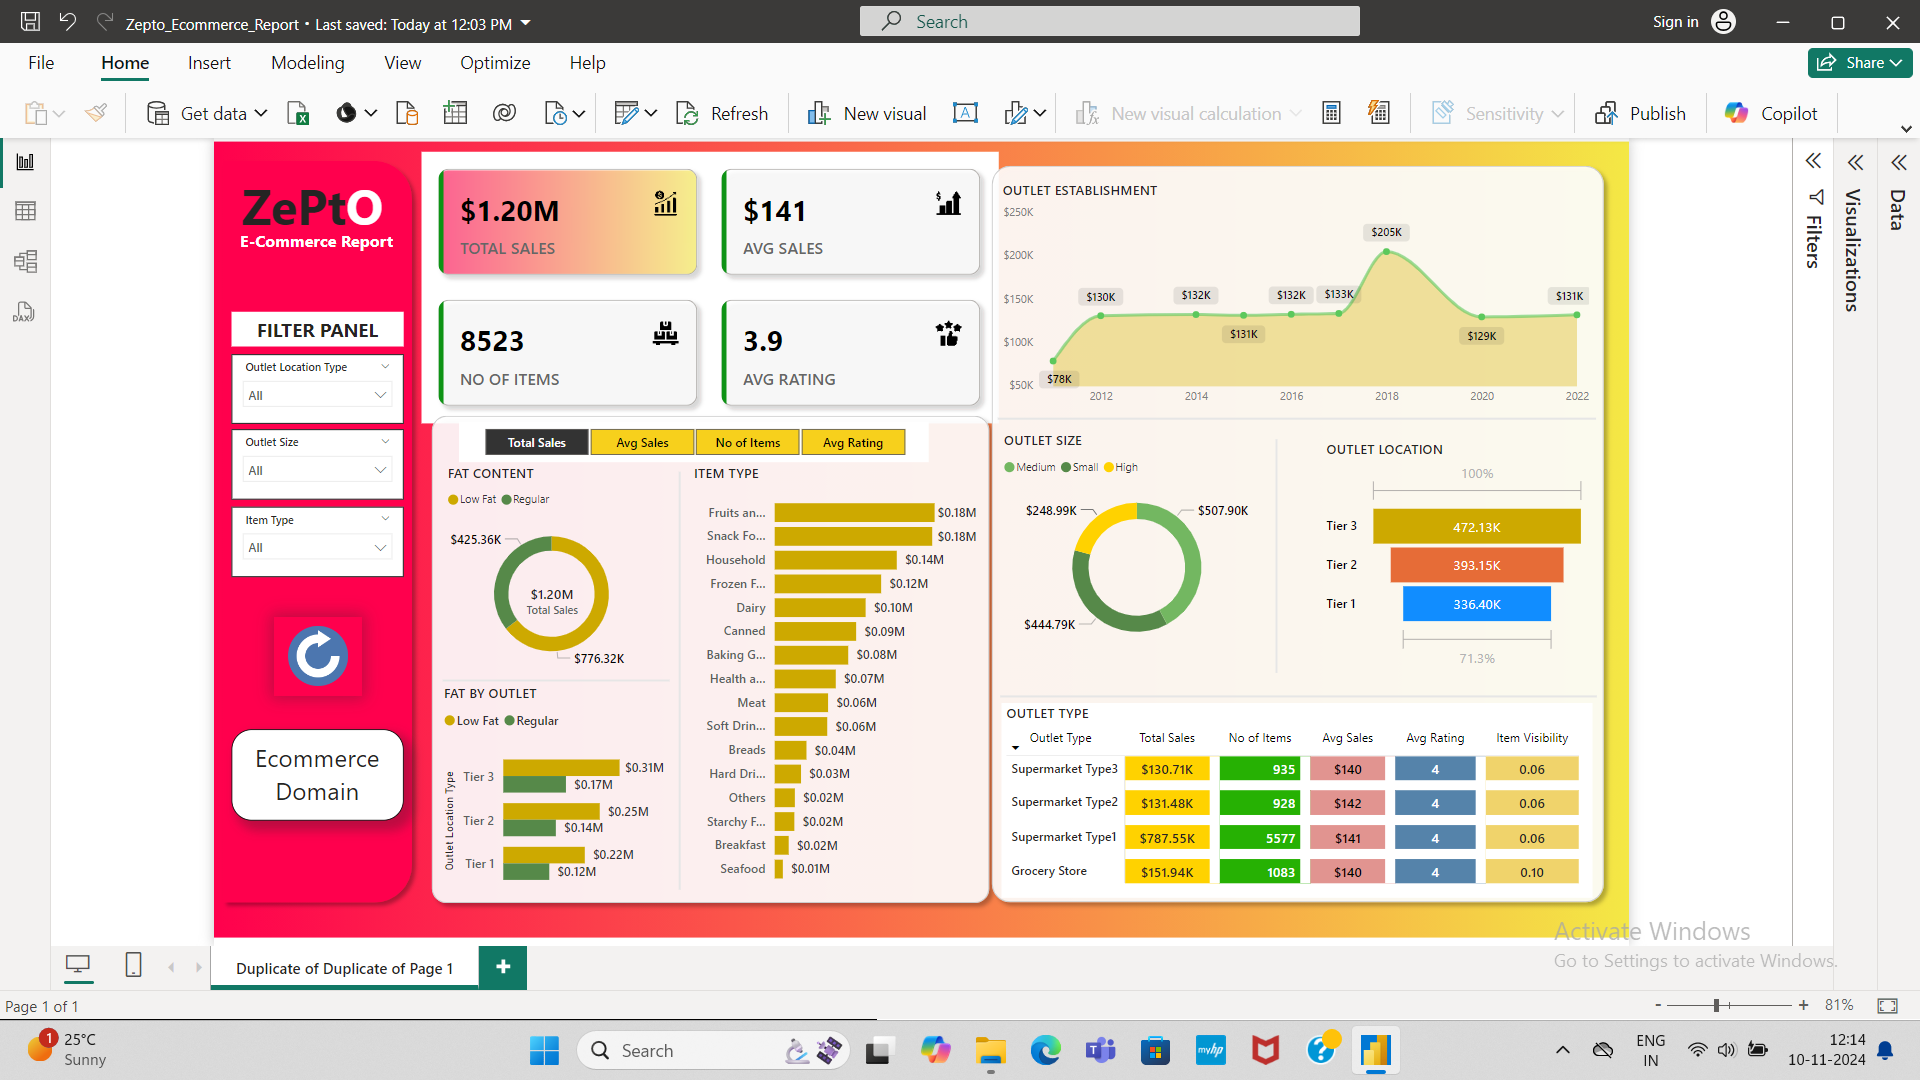

What the dashboard file says about the page in this screenshot:
{"tool":"powerbi","page":{"name":"Duplicate of Duplicate of Page 1","canvas":[1400,800],"ordinal":0},"visuals":[{"type":"shape","box":[0,13.9,204.9,752],"z":0},{"type":"textbox","box":[12.4,30,169.7,102.5],"z":1000},{"type":"textbox","box":[321.7,116.6,180.3,90.1],"z":2000},{"type":"textbox","box":[477.2,116.6,180.3,90.1],"z":3000},{"type":"textbox","box":[8.8,84.8,185.6,31.8],"z":4000},{"type":"cardVisual","fields":{"Data":["BlinkIT Grocery Data.Total Sales","BlinkIT Grocery Data.Avg Sales","BlinkIT Grocery Data.No of Items","BlinkIT Grocery Data.Avg Rating"]},"box":[205,14.1,570.9,268.6],"z":5000},{"type":"shape","box":[206.7,265.7,569.6,500.2],"z":6000},{"type":"donutChart","title":"FAT CONTENT","fields":{"Y":["ZePtO Grocery Data.Total Sales"],"Category":["BlinkIT Grocery Data.Item Fat Content"]},"box":[226.2,321.7,215.6,213.8],"z":7000},{"type":"slicer","fields":{"Values":["Metrics.Metrics"]},"box":[242.2,281.3,465.2,39.9],"z":8000},{"type":"cardVisual","fields":{"Data":["ZePtO Grocery Data.Total Sales"]},"box":[288.1,420.6,93.7,74.2],"z":9000},{"type":"clusteredBarChart","title":"FAT BY OUTLET","fields":{"Y":["ZePtO Grocery Data.Total Sales"],"Category":["BlinkIT Grocery Data.Outlet Location Type"],"Series":["BlinkIT Grocery Data.Item Fat Content"]},"box":[222.7,539,228,219.2],"z":10000},{"type":"shape","box":[226.2,530.2,224.5,12.4],"z":11000},{"type":"shape","box":[431.2,330.5,58.3,413.6],"z":12000},{"type":"barChart","title":"ITEM TYPE","fields":{"Y":["ZePtO Grocery Data.Total Sales"],"Category":["BlinkIT Grocery Data.Item Type"]},"box":[470.1,321.7,289.8,425.9],"z":13000},{"type":"shape","box":[760.7,19.1,623.5,746.8],"z":14000},{"type":"lineChart","title":"OUTLET ESTABLISHMENT","fields":{"Y":["BlinkIT Grocery Data.Total Sales"],"Category":["BlinkIT Grocery Data.Outlet Establishment Year"]},"box":[775.9,42.4,590.3,230.9],"z":15000},{"type":"shape","box":[775.9,273.9,592.1,8.8],"z":16000},{"type":"donutChart","title":"OUTLET SIZE","fields":{"Y":["BlinkIT Grocery Data.Total Sales"],"Category":["BlinkIT Grocery Data.Outlet Size"]},"box":[776.8,289,273.2,225.8],"z":17000},{"type":"shape","box":[1026.8,298.7,49.5,231.5],"z":18000},{"type":"funnel","title":"OUTLET LOCATION","fields":{"Y":["Sum(BlinkIT Grocery Data.Sales)"],"Category":["BlinkIT Grocery Data.Outlet Location Type"]},"box":[1095.8,298.7,266.9,231.5],"z":19000},{"type":"shape","box":[777.6,539,590.3,26.5],"z":20000},{"type":"pivotTable","title":"OUTLET TYPE","fields":{"Rows":["BlinkIT Grocery Data.Outlet Type"],"Values":["BlinkIT Grocery Data.Total Sales","BlinkIT Grocery Data.No of Items","BlinkIT Grocery Data.Avg Sales","BlinkIT Grocery Data.Avg Rating","Avg(BlinkIT Grocery Data.Item Visibility)"]},"box":[779.4,558.5,585,192.6],"z":21000},{"type":"slicer","fields":{"Values":["BlinkIT Grocery Data.Outlet Location Type"]},"box":[17.7,213.8,170,68.9],"z":22000},{"type":"slicer","fields":{"Values":["BlinkIT Grocery Data.Outlet Size"]},"box":[17.4,288.3,170.2,69.5],"z":23000},{"type":"slicer","fields":{"Values":["BlinkIT Grocery Data.Item Type"]},"box":[17.4,364.7,170.2,69.5],"z":24000},{"type":"textbox","box":[17.4,171.9,170.2,34.7],"z":25000},{"type":"textbox","box":[17.4,585.3,170.2,90.3],"z":26000},{"type":"image","box":[59,474.1,86.8,78.1],"z":27000}]}

Visuals, with their boxes on the page's 1400x800 design canvas (x1, y1, x2, y2). These are canvas units, not pixel positions in the 1920x1080 screenshot, which may show the page scaled, cropped or inside an application window:
shape: {"left": 0, "top": 14, "right": 205, "bottom": 766}
textbox: {"left": 12, "top": 30, "right": 182, "bottom": 132}
textbox: {"left": 322, "top": 117, "right": 502, "bottom": 207}
textbox: {"left": 477, "top": 117, "right": 658, "bottom": 207}
textbox: {"left": 9, "top": 85, "right": 194, "bottom": 117}
cardVisual - BlinkIT Grocery Data.Total Sales x BlinkIT Grocery Data.Avg Sales: {"left": 205, "top": 14, "right": 776, "bottom": 283}
shape: {"left": 207, "top": 266, "right": 776, "bottom": 766}
"FAT CONTENT" donutChart: {"left": 226, "top": 322, "right": 442, "bottom": 536}
slicer - Metrics.Metrics: {"left": 242, "top": 281, "right": 707, "bottom": 321}
cardVisual - ZePtO Grocery Data.Total Sales: {"left": 288, "top": 421, "right": 382, "bottom": 495}
"FAT BY OUTLET" clusteredBarChart: {"left": 223, "top": 539, "right": 451, "bottom": 758}
shape: {"left": 226, "top": 530, "right": 451, "bottom": 543}
shape: {"left": 431, "top": 330, "right": 490, "bottom": 744}
"ITEM TYPE" barChart: {"left": 470, "top": 322, "right": 760, "bottom": 748}
shape: {"left": 761, "top": 19, "right": 1384, "bottom": 766}
"OUTLET ESTABLISHMENT" lineChart: {"left": 776, "top": 42, "right": 1366, "bottom": 273}
shape: {"left": 776, "top": 274, "right": 1368, "bottom": 283}
"OUTLET SIZE" donutChart: {"left": 777, "top": 289, "right": 1050, "bottom": 515}
shape: {"left": 1027, "top": 299, "right": 1076, "bottom": 530}
"OUTLET LOCATION" funnel: {"left": 1096, "top": 299, "right": 1363, "bottom": 530}
shape: {"left": 778, "top": 539, "right": 1368, "bottom": 566}
"OUTLET TYPE" pivotTable: {"left": 779, "top": 558, "right": 1364, "bottom": 751}
slicer - BlinkIT Grocery Data.Outlet Location Type: {"left": 18, "top": 214, "right": 188, "bottom": 283}
slicer - BlinkIT Grocery Data.Outlet Size: {"left": 17, "top": 288, "right": 188, "bottom": 358}
slicer - BlinkIT Grocery Data.Item Type: {"left": 17, "top": 365, "right": 188, "bottom": 434}
textbox: {"left": 17, "top": 172, "right": 188, "bottom": 207}
textbox: {"left": 17, "top": 585, "right": 188, "bottom": 676}
image: {"left": 59, "top": 474, "right": 146, "bottom": 552}
